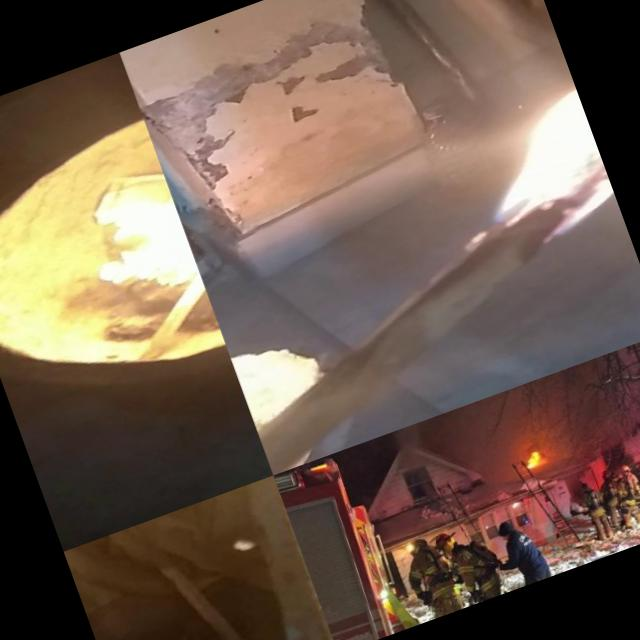fire: (391, 55, 627, 292), (23, 180, 208, 348), (520, 443, 551, 472)
